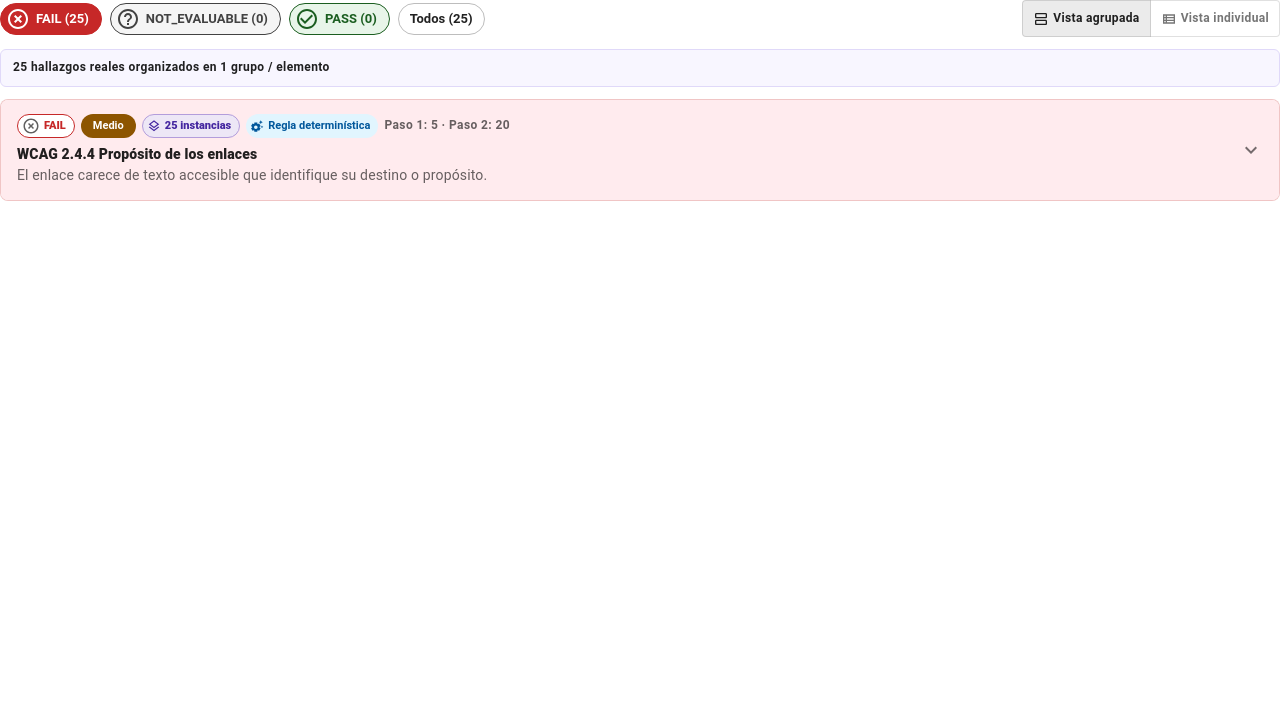
Test case: FindingsAccordion — vista agrupada, instancias paginadas y vista individual reversible (Etapa 3) › agrupa 25 hallazgos determinísticos WCAG 2.4.4 en 1 tarjeta agrupada con instancias paginadas (10/página) y permite volver a vista individual
This screenshot has width=1280, height=715.
Expected: the text "25 instancias" is shown, [165,119,231,132]
Expected: the text "Paso 1: 5 · Paso 2: 20" is shown, [384,116,510,136]
Click the 7th button at (46, 126), box [1,100,1279,200]
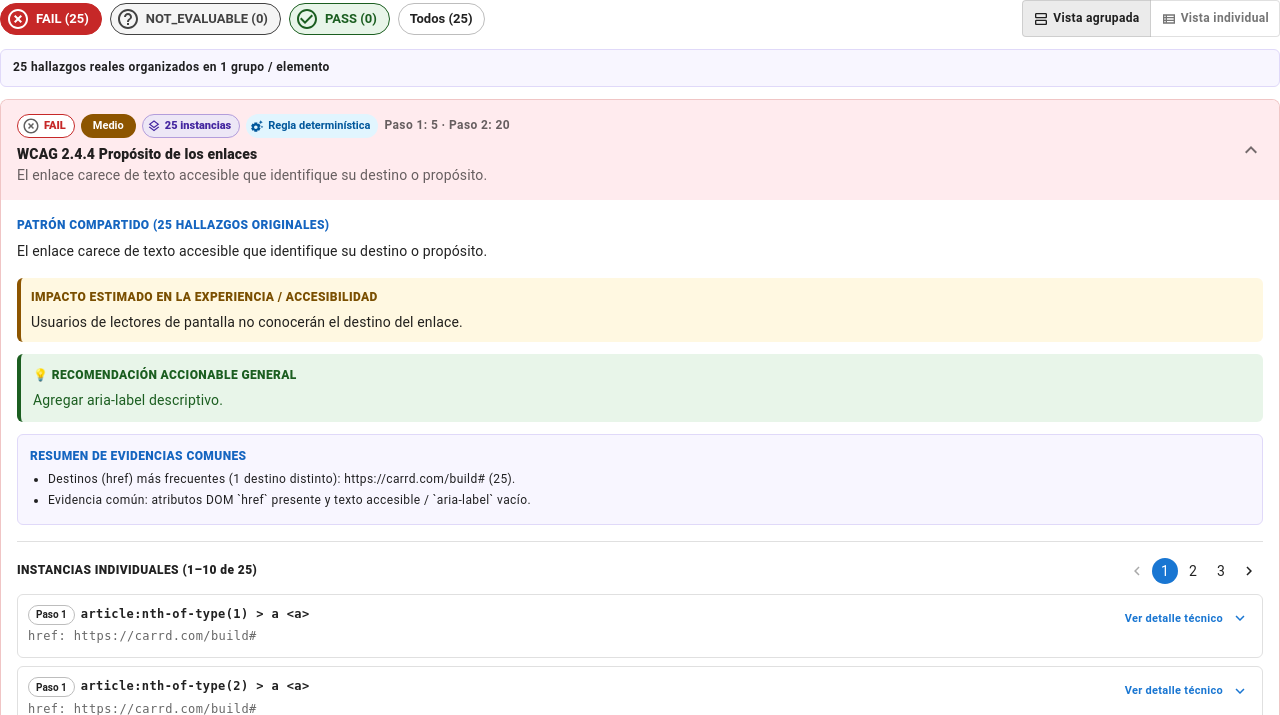
Now the text "INSTANCIAS INDIVIDUALES (1–10 de 25)" is shown, box [17,561,257,581]
Now the text "PATRÓN COMPARTIDO (25 HALLAZGOS ORIGINALES)" is shown, box [17,218,330,232]
Now the text "Agregar aria-label descriptivo." is shown, box [33,392,223,408]
Click the button "Ver detalle técnico" in the row of "article:nth-of-type(1) > a" at (1186, 618), box [1120,605,1252,632]
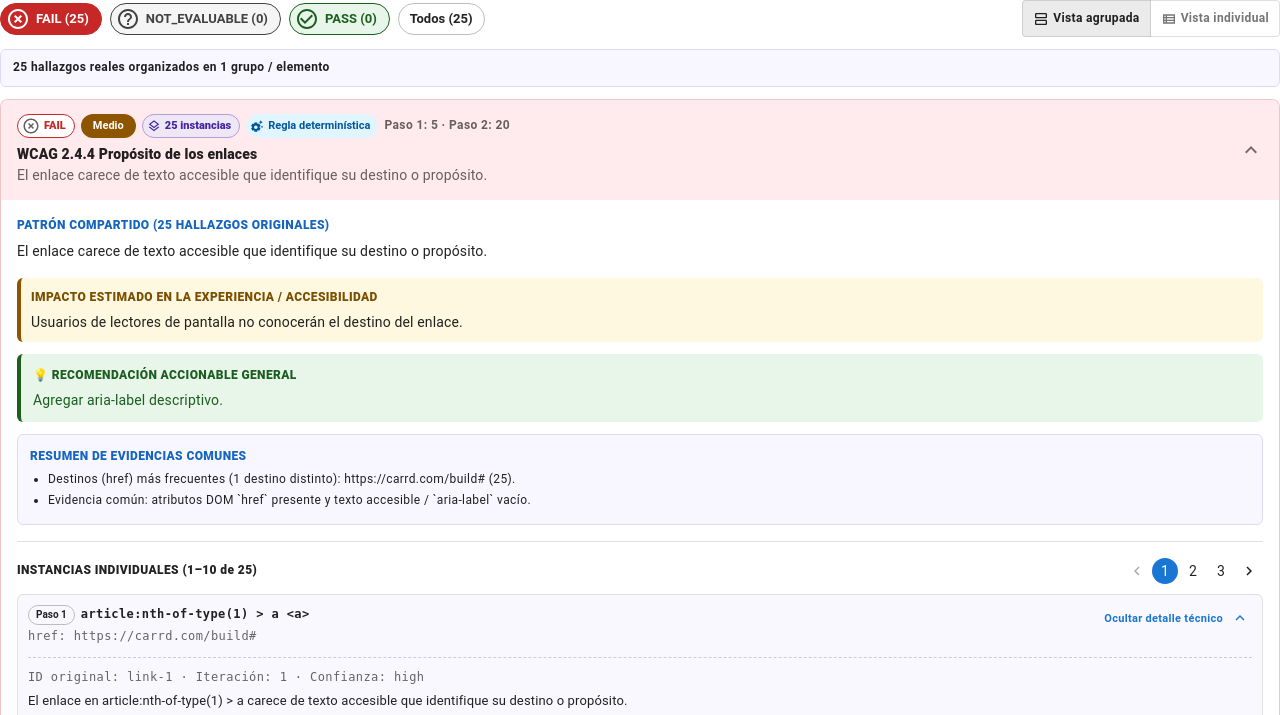
Now the text "ID original: link-1 · Iteración: 1 · Confianza: high" is shown, box [28,670,424,684]
Click the button "Vista individual" at (1215, 18), box [1150,0,1279,37]
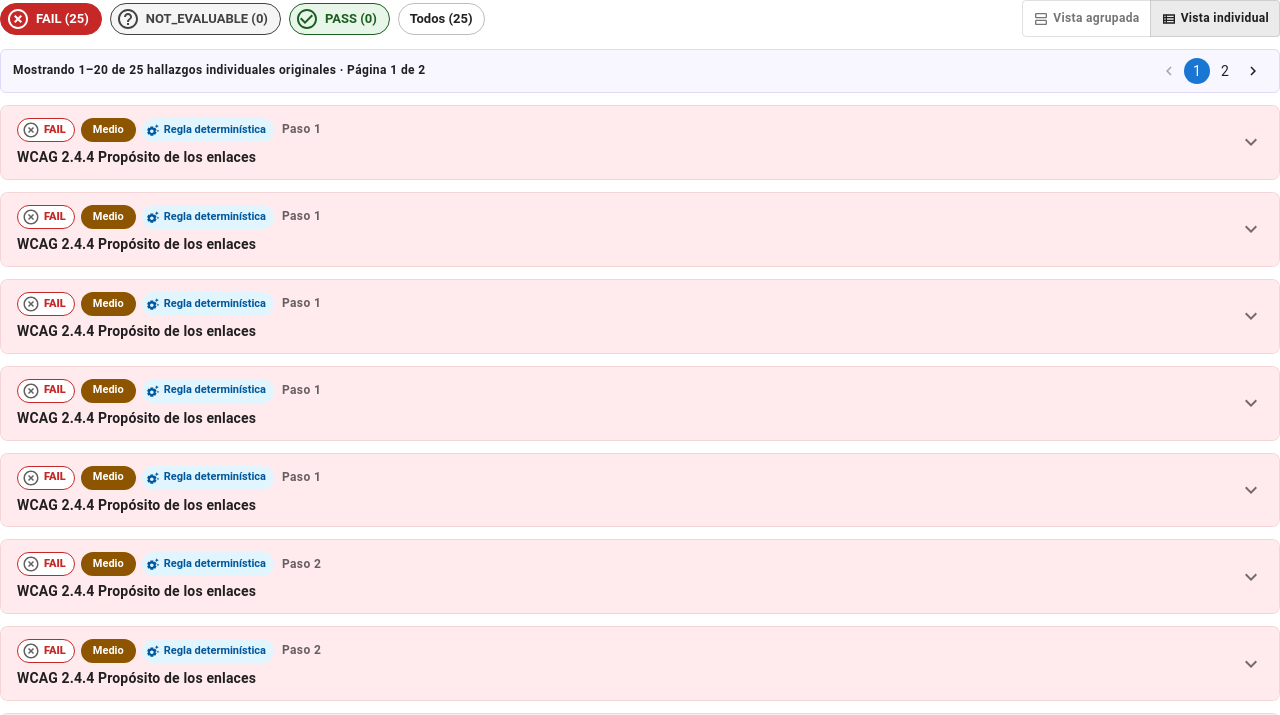
Now the text "1–20" is shown, box [78,63,108,77]
Now the text "hallazgos individuales originales" is shown, box [144,63,336,77]
